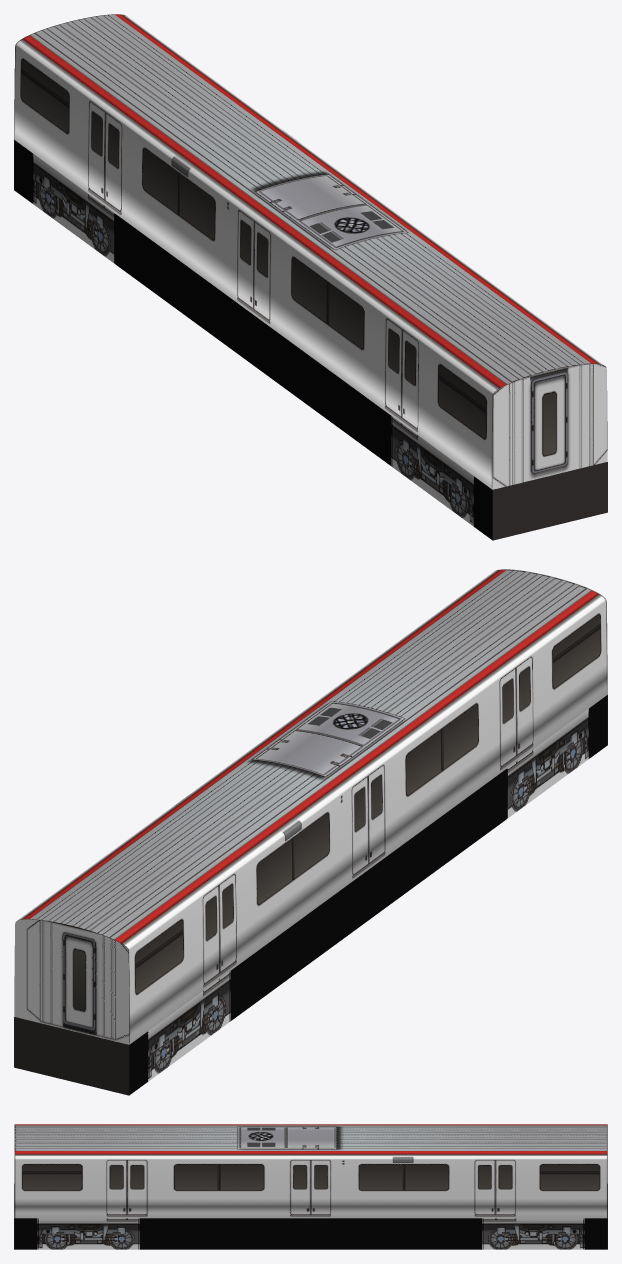
The model's file is car3.glb.
3 renders of one model, top to bottom at view 1: azimuth 30°, elevation 25°; view 2: azimuth 150°, elevation 25°; view 3: azimuth 270°, elevation 25°, orthographic. The views are drawn at different scales.
Visible parts, largest first — view 1: meitetsu-2200-car3; view 2: meitetsu-2200-car3; view 3: meitetsu-2200-car3.
Boxes of the visible parts, x1,y1,x2,y2 form: meitetsu-2200-car3: (14, 14, 607, 540); meitetsu-2200-car3: (14, 569, 607, 1095); meitetsu-2200-car3: (14, 1124, 607, 1249).
Size of the model in its own units: 2.7 by 3.48 by 19.44.
Materials: 8 (7 with a texture image).
